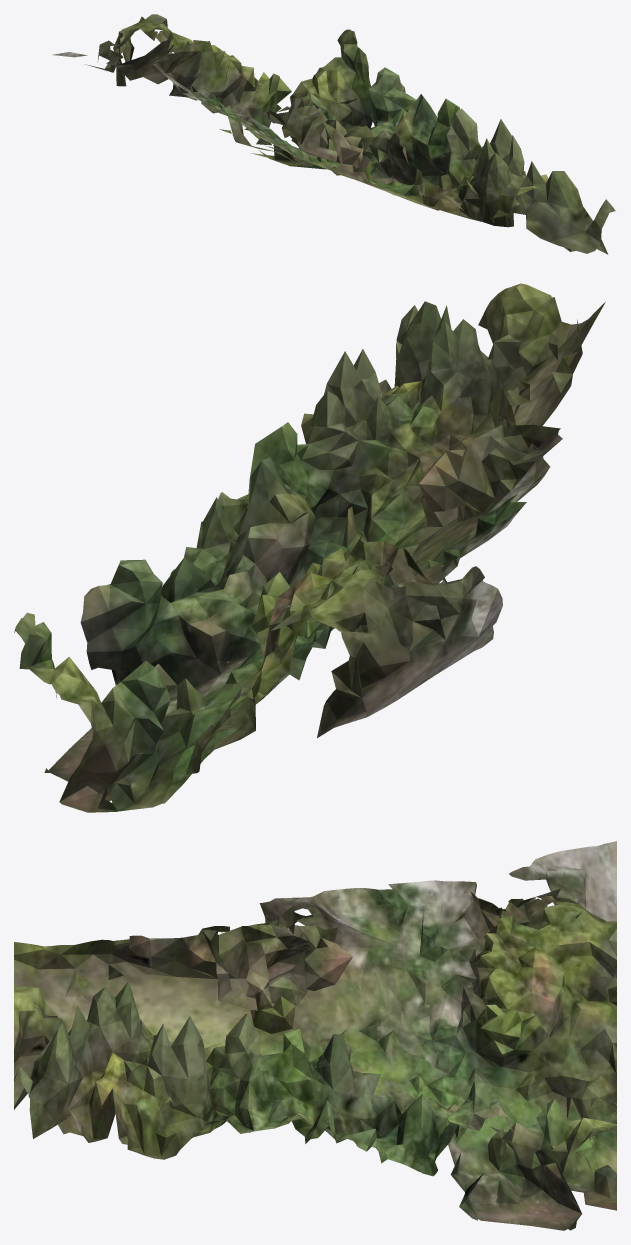
3 renders of one model, top to bottom at view 1: azimuth 30°, elevation 25°; view 2: azimuth 150°, elevation 25°; view 3: azimuth 270°, elevation 25°, orthographic. The views are drawn at different scales.
Bounding box in the file's own units: 66.53 × 36.29 × 94.38.
Materials: 3 (3 with a texture image).
